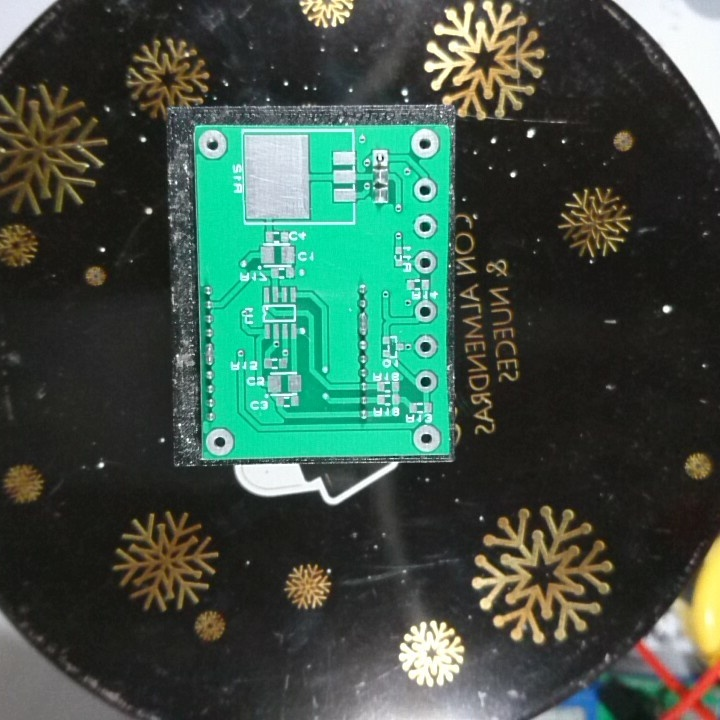F: (409, 127, 443, 160), (198, 127, 228, 162), (410, 420, 442, 452), (205, 426, 237, 458), (411, 175, 442, 206), (412, 366, 440, 395), (414, 332, 439, 362), (412, 249, 440, 275), (413, 298, 439, 325), (413, 213, 438, 240), (370, 146, 392, 169)
P: (356, 309, 372, 339), (202, 339, 218, 368)
